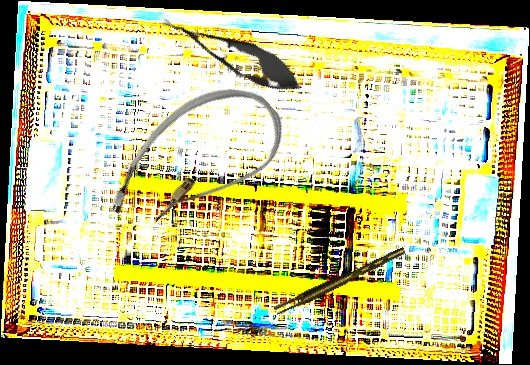Cannula: (92, 60, 300, 264)
Micro Scissor: (154, 4, 311, 104)
Tissue Forceps: (271, 247, 409, 316)
